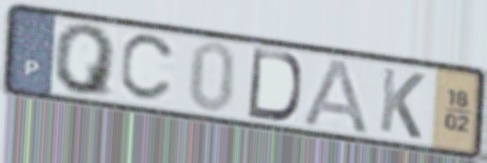0: (187, 39, 241, 116)
A: (300, 56, 372, 138)
C: (117, 33, 180, 105)
D: (244, 46, 304, 124)
K: (376, 65, 428, 143)
Q: (52, 23, 120, 100)
